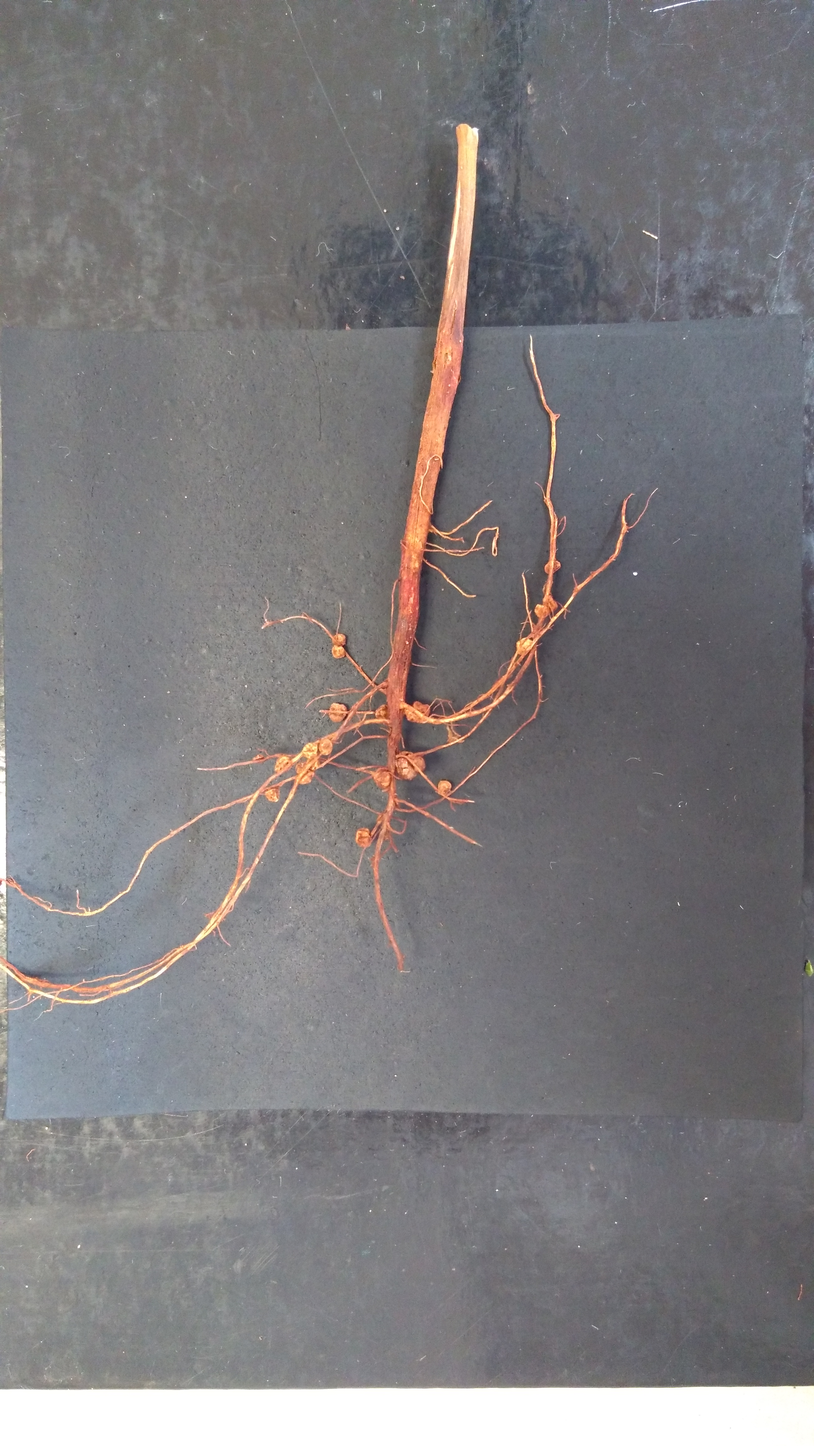nodule: (395, 752, 427, 782), (403, 701, 432, 725), (294, 762, 315, 786), (371, 769, 392, 791), (328, 702, 348, 723), (354, 826, 373, 848), (514, 637, 534, 656), (274, 755, 292, 774), (263, 785, 280, 804), (374, 704, 391, 721), (301, 741, 318, 758), (543, 559, 561, 574), (318, 738, 333, 756), (436, 779, 452, 795), (533, 603, 550, 618), (331, 644, 346, 659), (331, 632, 347, 646), (547, 594, 558, 614), (307, 756, 319, 771), (253, 754, 264, 760)
